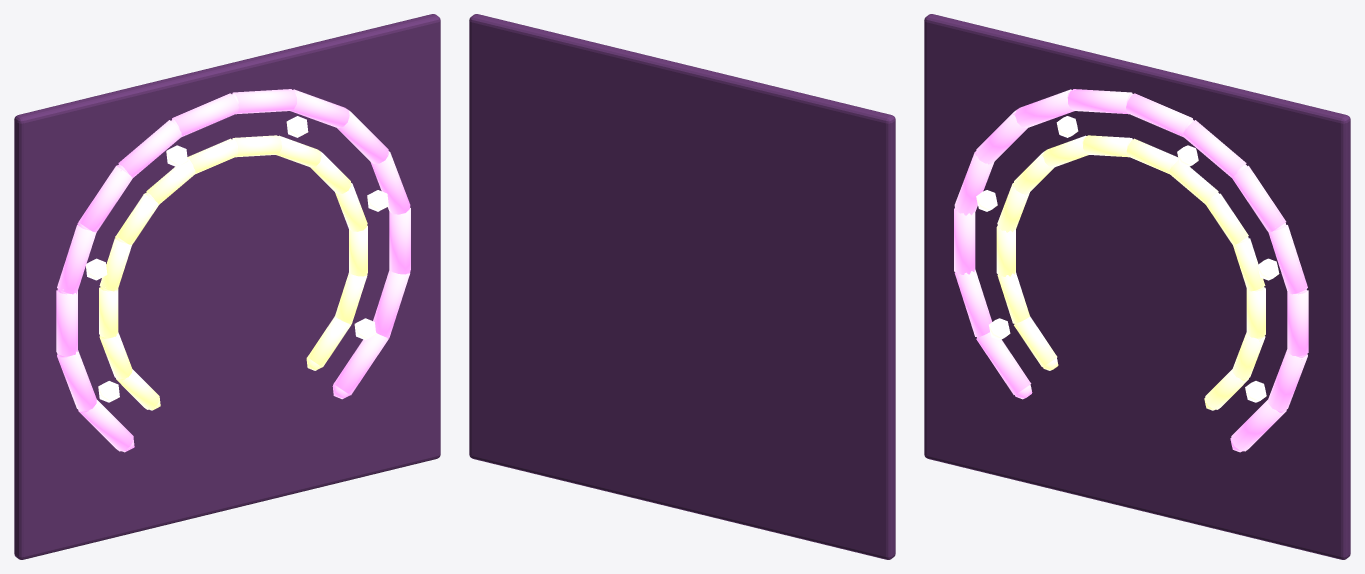
The model's file is pc_neon_shoe.glb.
3 views of the same model, side by side, from view 1: azimuth 30°, elevation 25°; view 2: azimuth 150°, elevation 25°; view 3: azimuth 330°, elevation 25° (orthographic).
Parts seen in each view (by area): view 1: pc_neon_shoe; view 2: pc_neon_shoe; view 3: pc_neon_shoe.
Part boxes in pixels (x1,y1,x2,y2): pc_neon_shoe: (14, 14, 440, 559); pc_neon_shoe: (469, 14, 895, 559); pc_neon_shoe: (924, 14, 1350, 559).
Size of the model in its own units: 2 by 2 by 0.1525.
